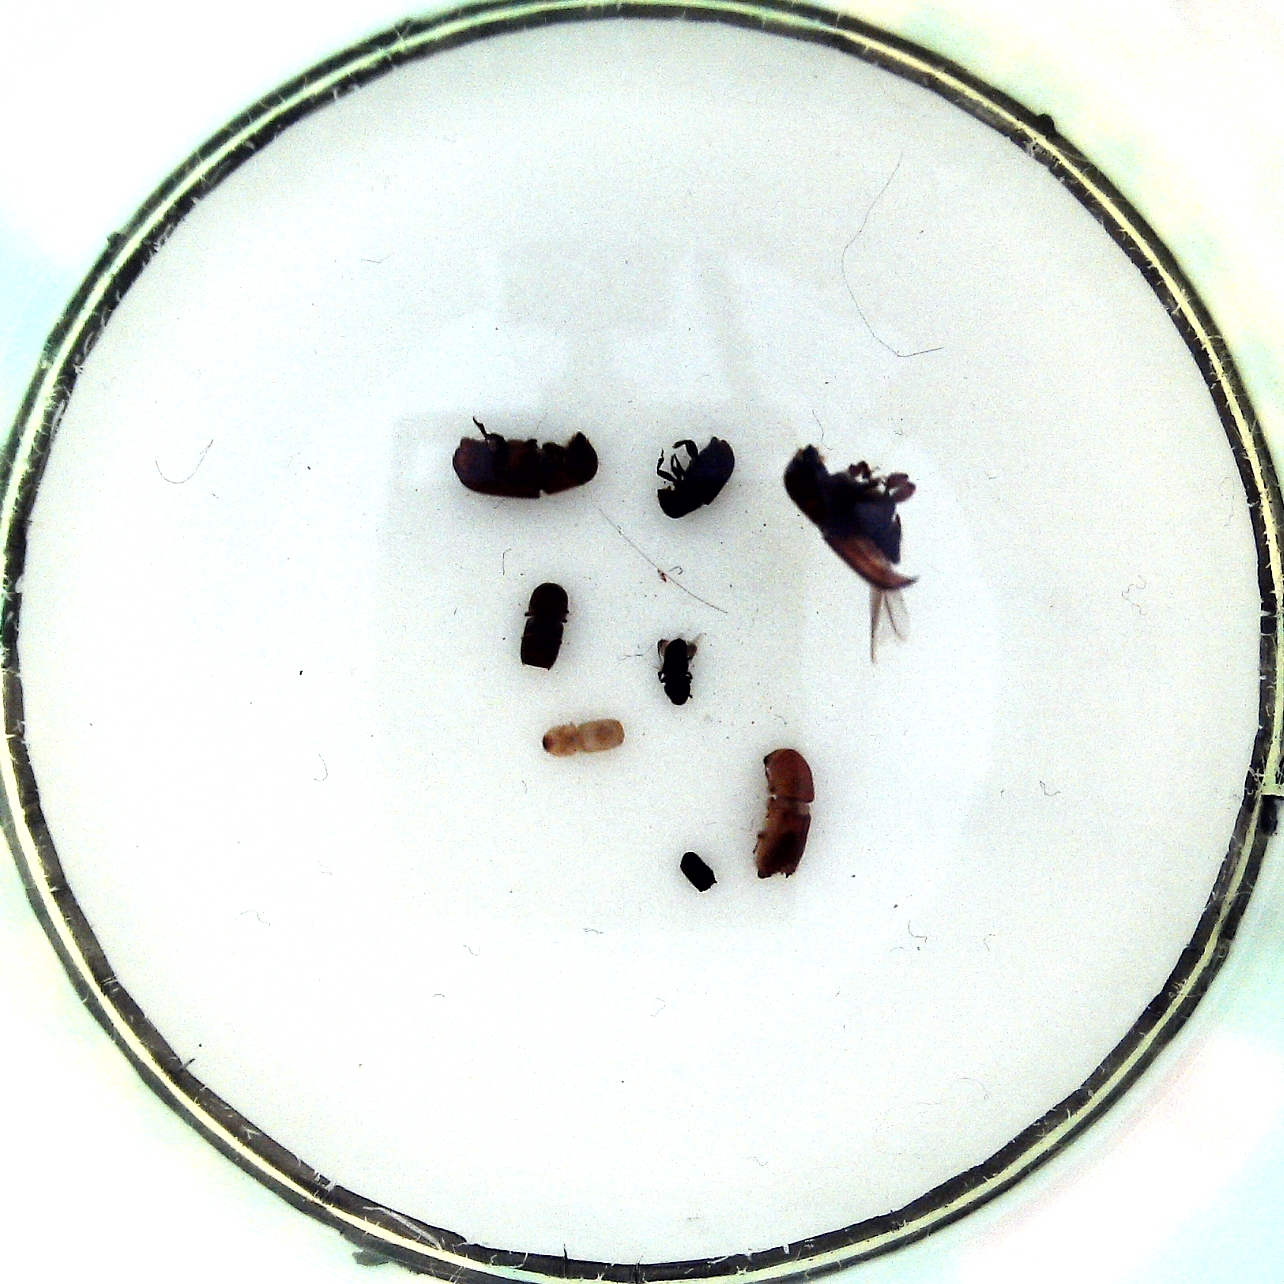Boerner: (745, 744, 817, 883)
Leconte: (778, 442, 927, 663), (450, 412, 604, 503)
Linnaeus: (517, 573, 573, 676)
acuminatus: (539, 713, 634, 762)
armandi: (650, 424, 738, 517)
coleoptera: (653, 627, 707, 711), (676, 842, 720, 896)
